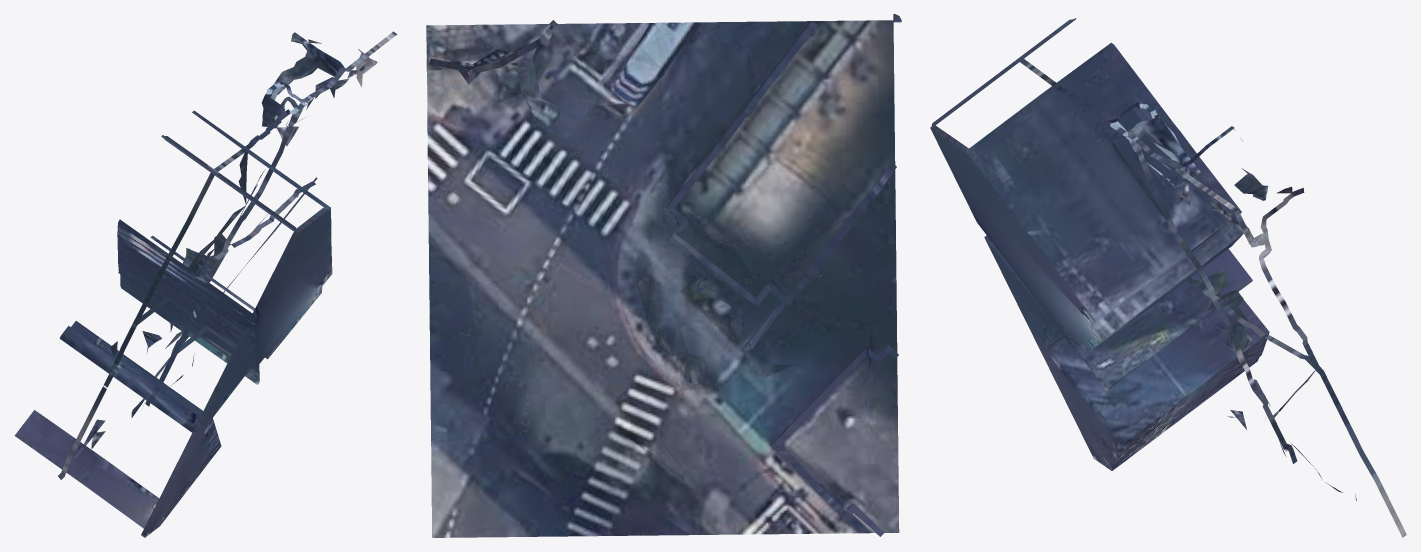
The picture shows the model from 3 angles, left to right: view 1: azimuth 30°, elevation 25°; view 2: azimuth 150°, elevation 25°; view 3: azimuth 270°, elevation 25°; orthographic projection. The views are drawn at different scales.
Size of the model in its own units: 39.92 by 41.56 by 39.93.
2 materials, 2 textured.
